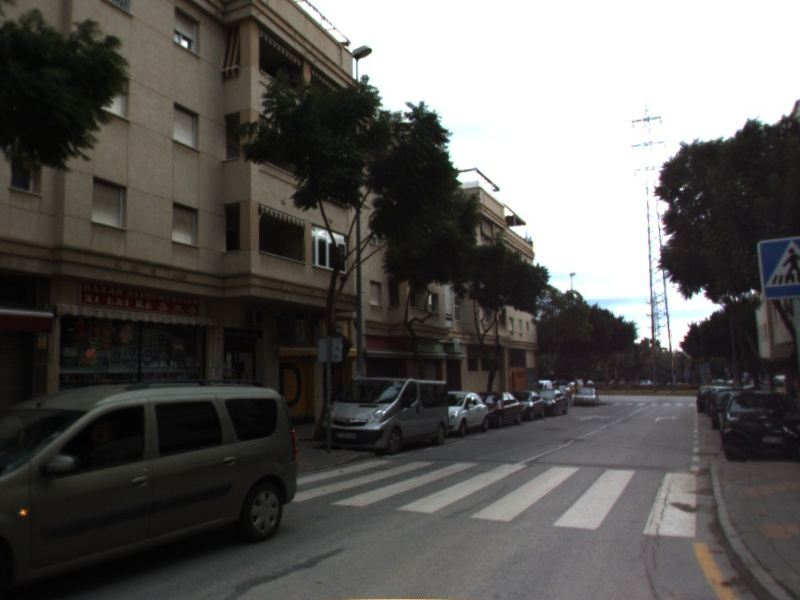RIGHT: (653, 413, 682, 423)
